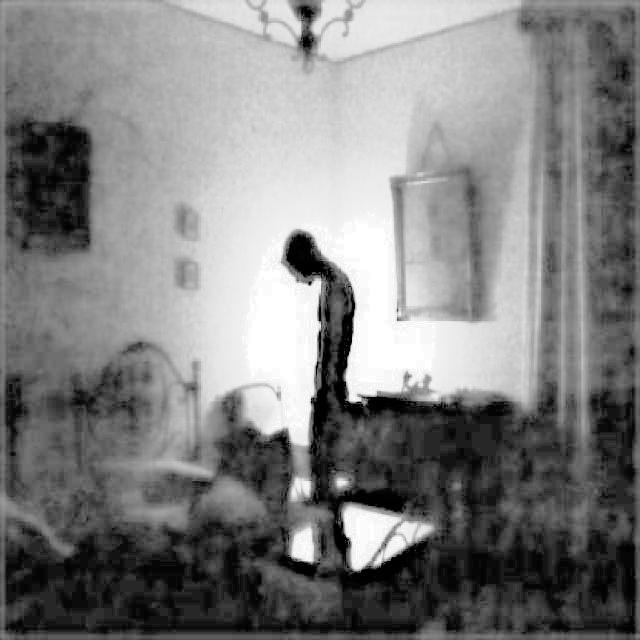Person: (273, 225, 361, 487)
